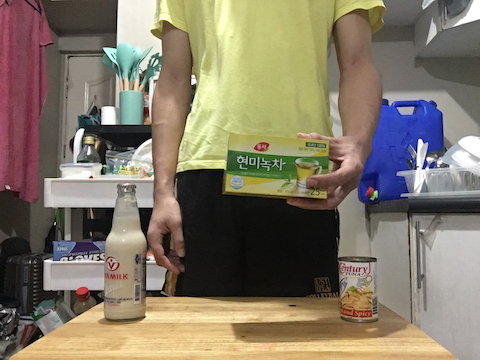bottle: (98, 181, 153, 324)
box: (221, 129, 335, 204)
can: (336, 251, 382, 325)
grab: (285, 128, 358, 219)
